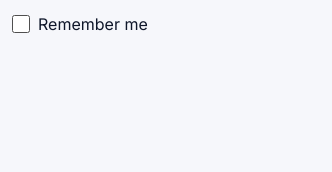
choices › Checkbox is named by its label and toggles
The width and height of the screenshot is (332, 172).
Click the checkbox labelled "Remember me" at (21, 24), box top-left (12, 15), bottom-right (30, 33)
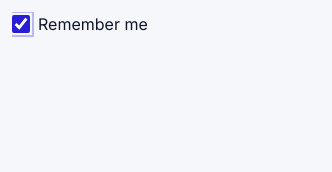
expect the checkbox labelled "Remember me" is checked: met, box top-left (12, 15), bottom-right (30, 33)
